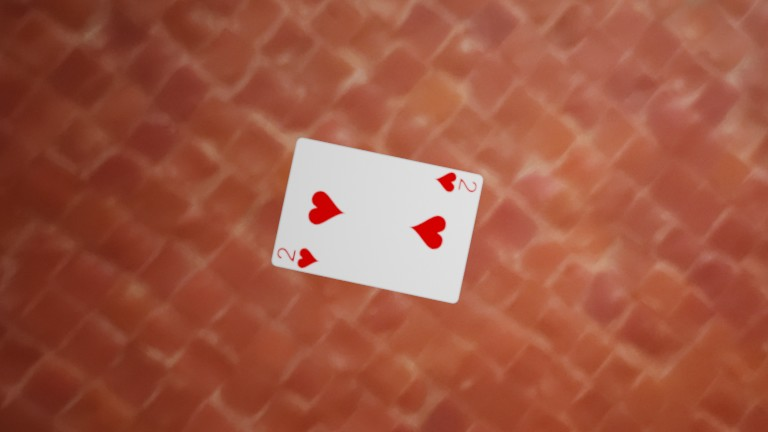2_of_hearts: (274, 241, 322, 274), (432, 168, 480, 201)
